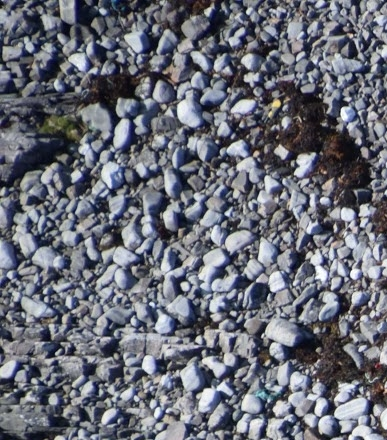white_in_green: (249, 79, 307, 126)
